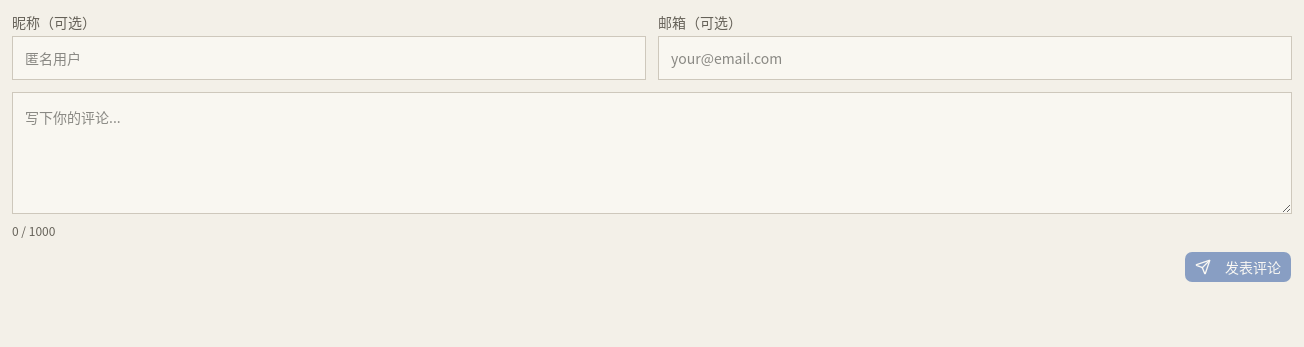
Test: CommentForm › should show error for invalid email
In the field with placeholder "your@email.com": (975, 58) [658,36,1292,80], type "invalid-email"
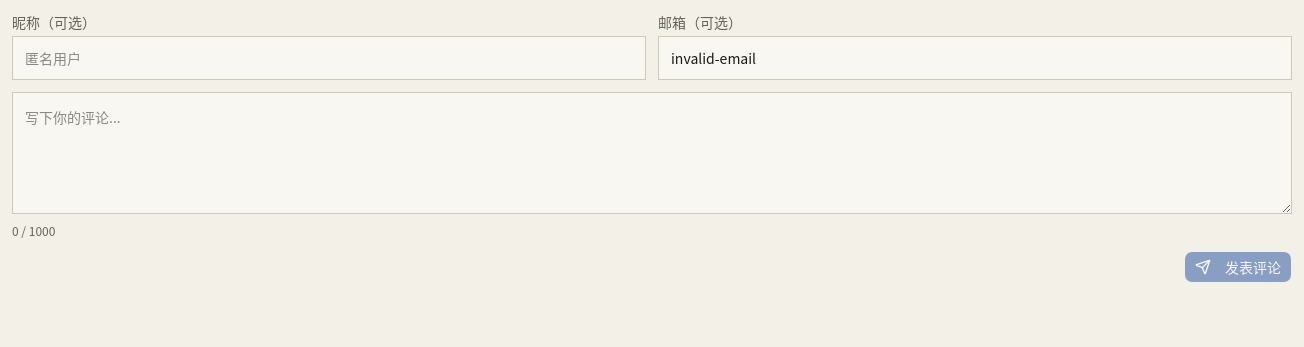
In the text box with placeholder "写下你的评论...": (652, 153) [12,92,1292,214], type "Test content"
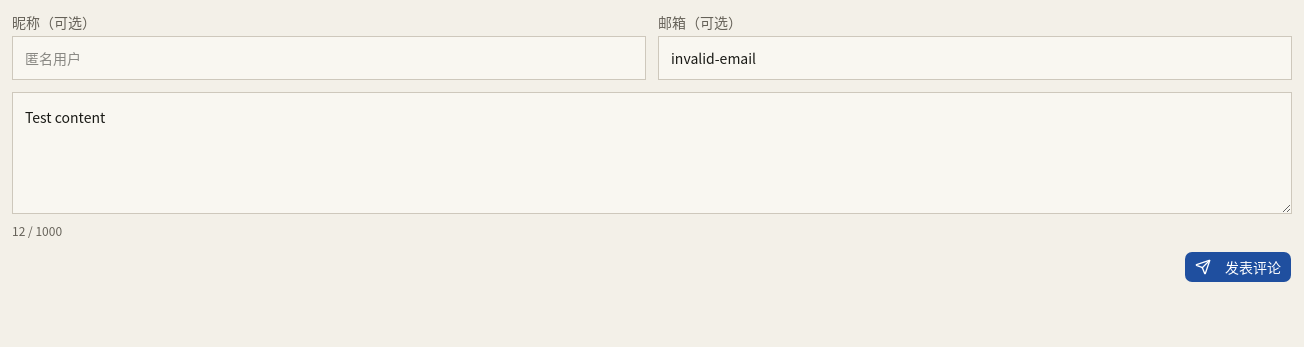
# 直接触发表单提交
Submit the form with placeholder "写下你的评论..."
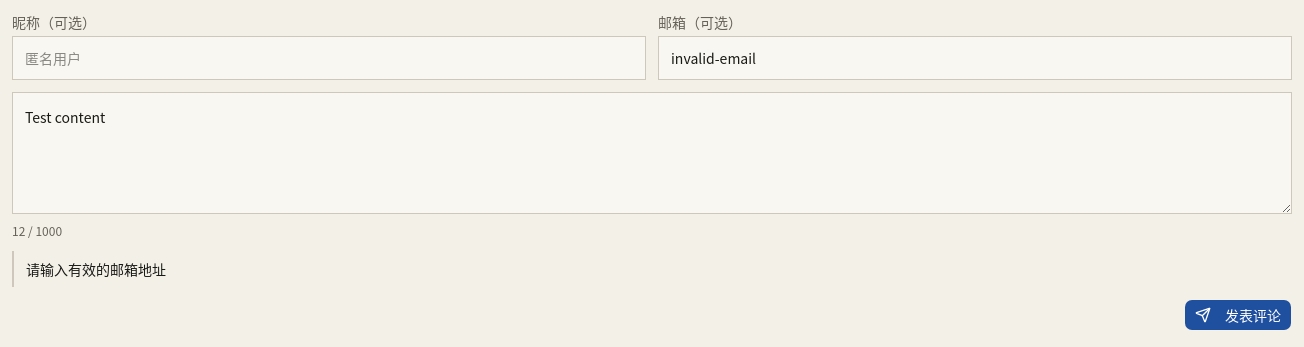
Now the text "请输入有效的邮箱地址" is shown, box [12,251,1292,287]
